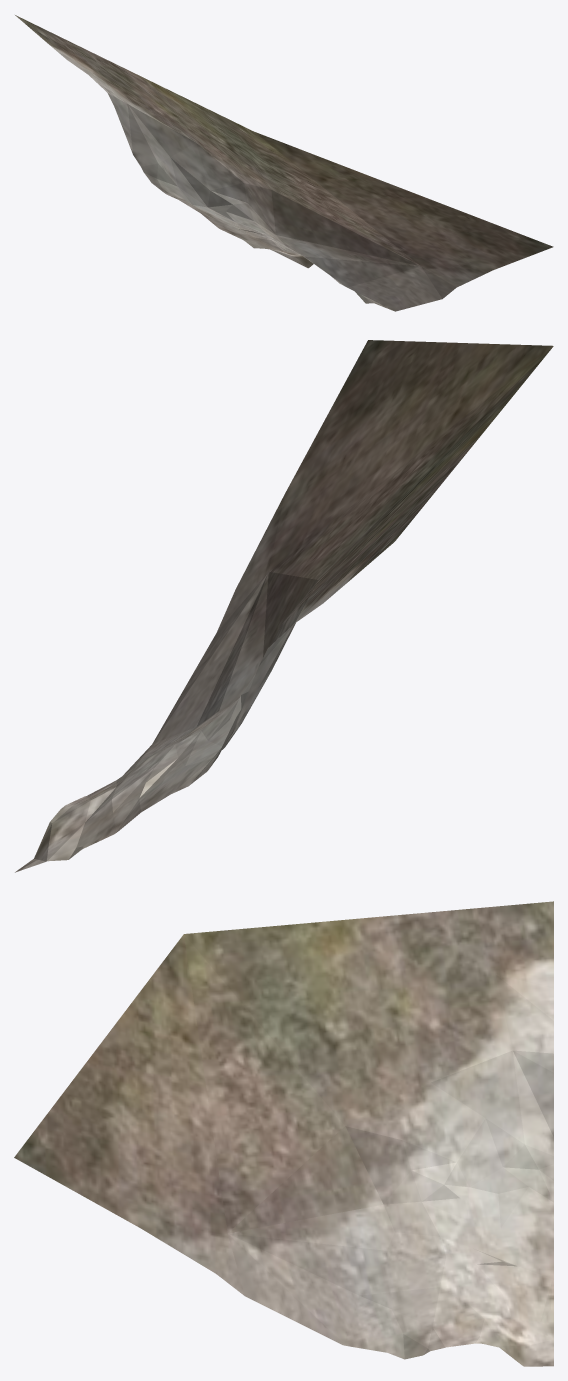
3 views of the same model, one above another, from view 1: azimuth 30°, elevation 25°; view 2: azimuth 150°, elevation 25°; view 3: azimuth 270°, elevation 25° (orthographic). The views are drawn at different scales.
Bounding box in the file's own units: 1.51 × 1.6 × 2.43.
Materials: 1 (1 with a texture image).
